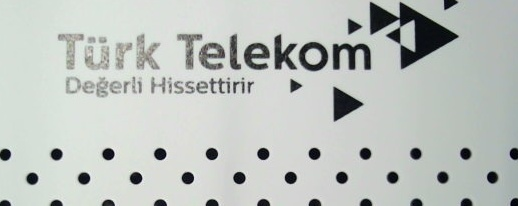AQ_TURKTelekom: (52, 2, 456, 122)
